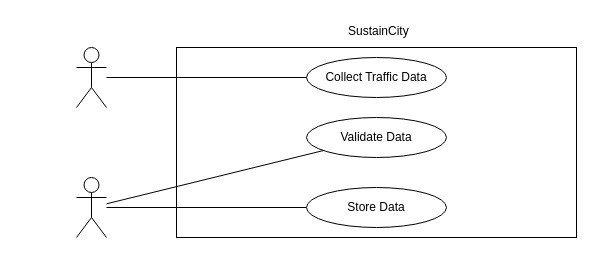
The diagram is 595 pixels wide and 255 high, and some of its shapes have lost their labels. The shapes that lost their labels are listed below. From the top down, each one's centre as x and y in pixels, then its label:
(x=91, y=77): Traffic Sensors
(x=91, y=207): Traffic Management System
